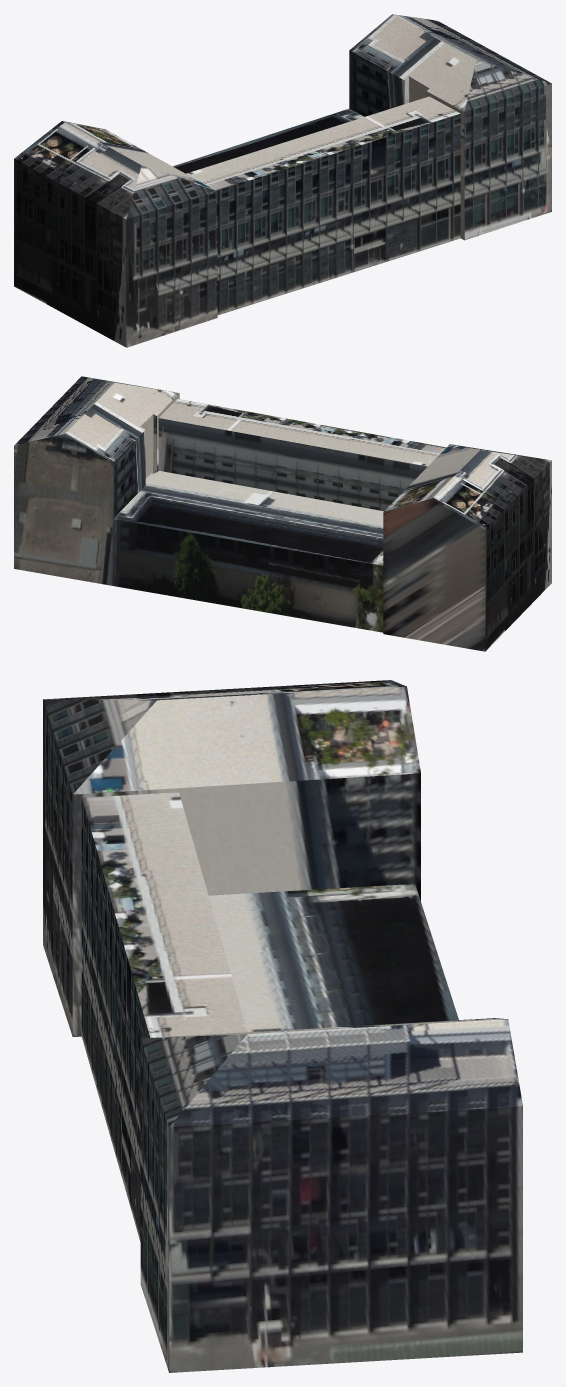
3 views of the same model, one above another, from view 1: azimuth 30°, elevation 25°; view 2: azimuth 150°, elevation 25°; view 3: azimuth 270°, elevation 25° (orthographic). The views are drawn at different scales.
Visible parts, largest first — view 1: Z_UP; view 2: Z_UP; view 3: Z_UP.
Part boxes in pixels (x1,y1,x2,y2): Z_UP: [14, 14, 551, 347]; Z_UP: [14, 376, 551, 651]; Z_UP: [43, 680, 522, 1372].
Size of the model in its own units: 71.95 by 21.51 by 32.57.
2 materials, 1 textured.
